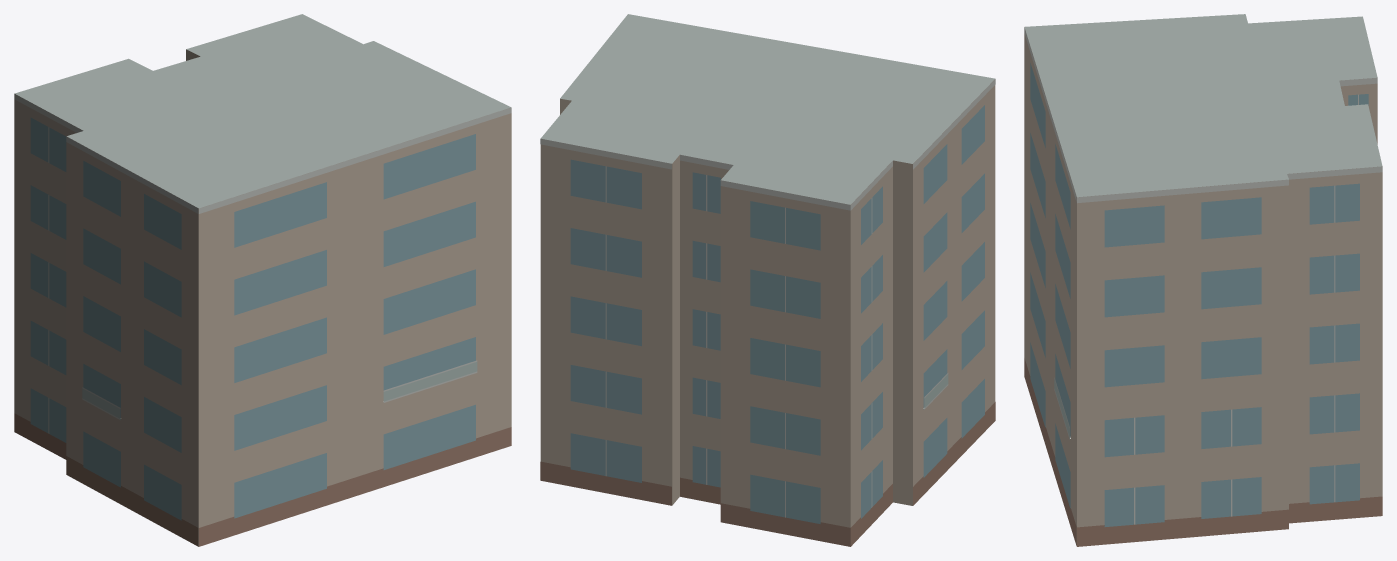
The model's file is survey-upis-32925236.glb.
3 views of the same model, side by side, from view 1: azimuth 30°, elevation 25°; view 2: azimuth 150°, elevation 25°; view 3: azimuth 270°, elevation 25° (orthographic). The views are drawn at different scales.
Visible parts, largest first — view 1: survey-upis-32925236.tmp; view 2: survey-upis-32925236.tmp; view 3: survey-upis-32925236.tmp.
Boxes of the visible parts, left/top/right/bottom form: survey-upis-32925236.tmp: left=14, top=14, right=511, bottom=546; survey-upis-32925236.tmp: left=540, top=14, right=995, bottom=546; survey-upis-32925236.tmp: left=1024, top=14, right=1382, bottom=546.
Bounding box in the file's own units: 16.2 × 14.4 × 13.38.
